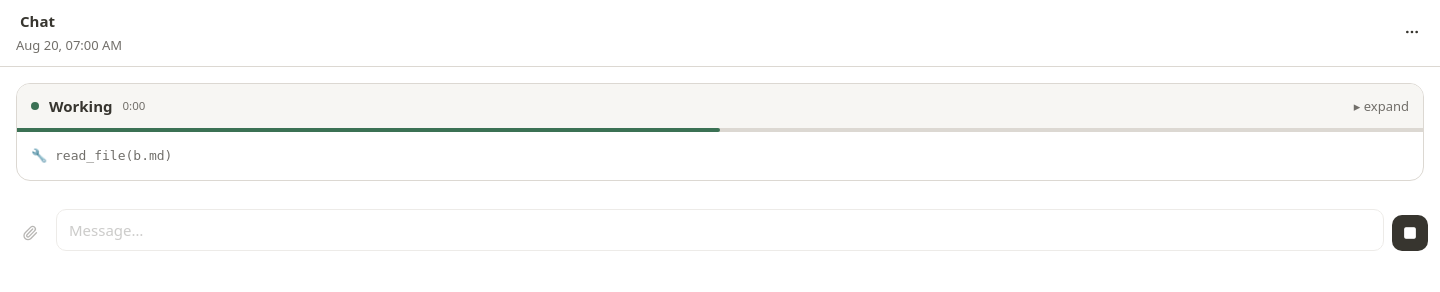
Scenario: the progress card collapses to the current action and expands to all of them
Expected: the element with test id "activity-card" shows "read_file(b.md)", [31,148,172,162]
Expected: the element with test id "activity-card" does not show "read_file(a.md)", [16,82,1424,180]
Click the button with test id "activity-toggle" at (1381, 106), box [1354,96,1409,116]
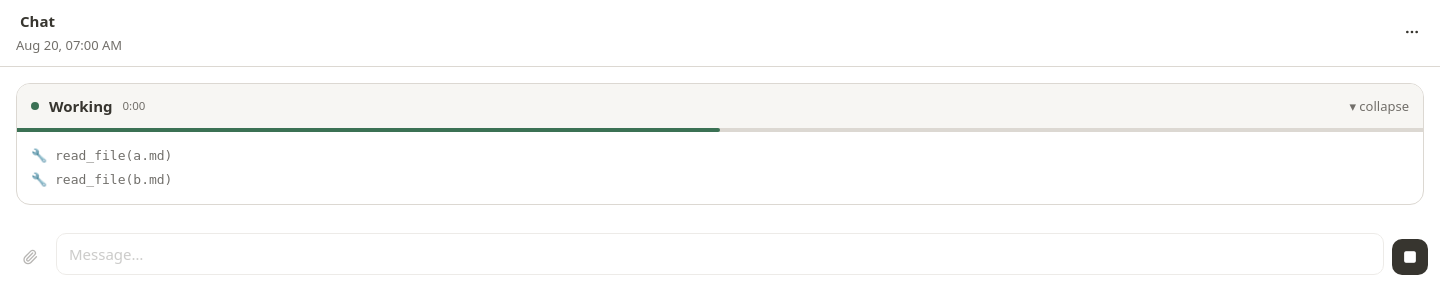
Expected: the element with test id "activity-card" shows "read_file(b.md)", [31,172,172,186]
Now the element with test id "activity-card" shows "read_file(a.md)", box [31,148,172,162]
